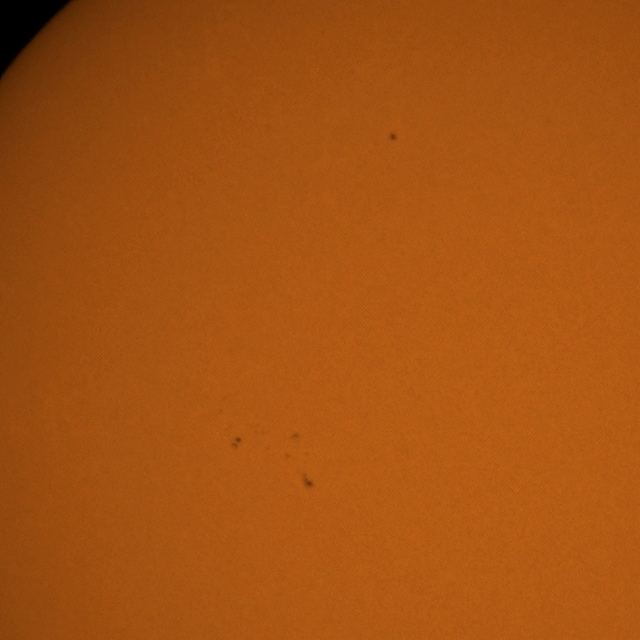sunspot: (302, 471, 315, 489), (231, 436, 242, 450), (388, 131, 398, 142)
